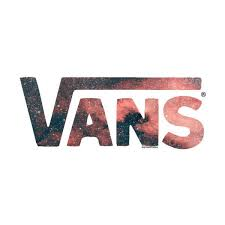vans: (21, 76, 203, 150)
